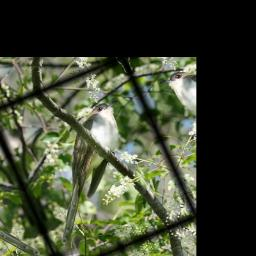Cuckoo: (12, 95, 168, 251)
